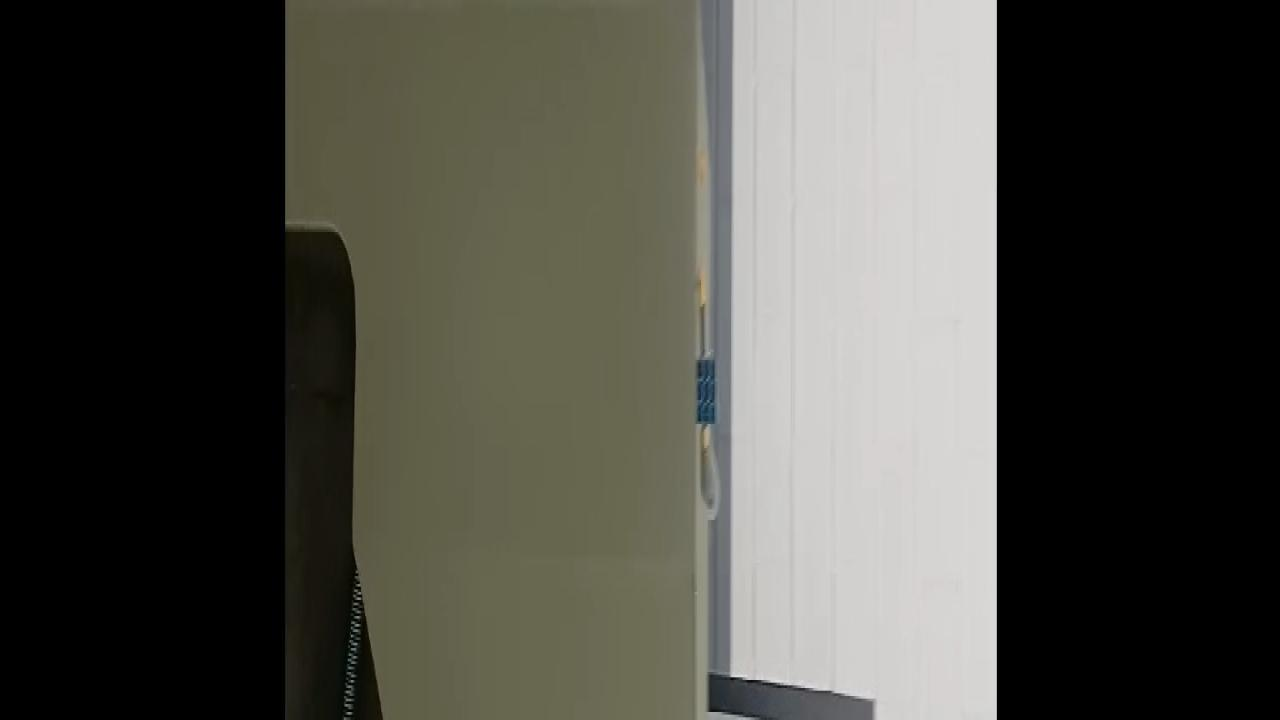Cube: (695, 355, 715, 425)
